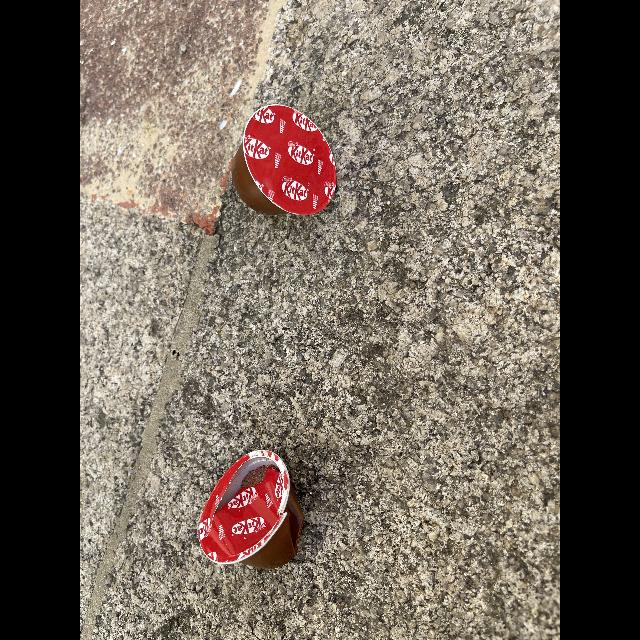damaged_capsule: (195, 445, 312, 585)
intact_capsule: (220, 101, 352, 222)
